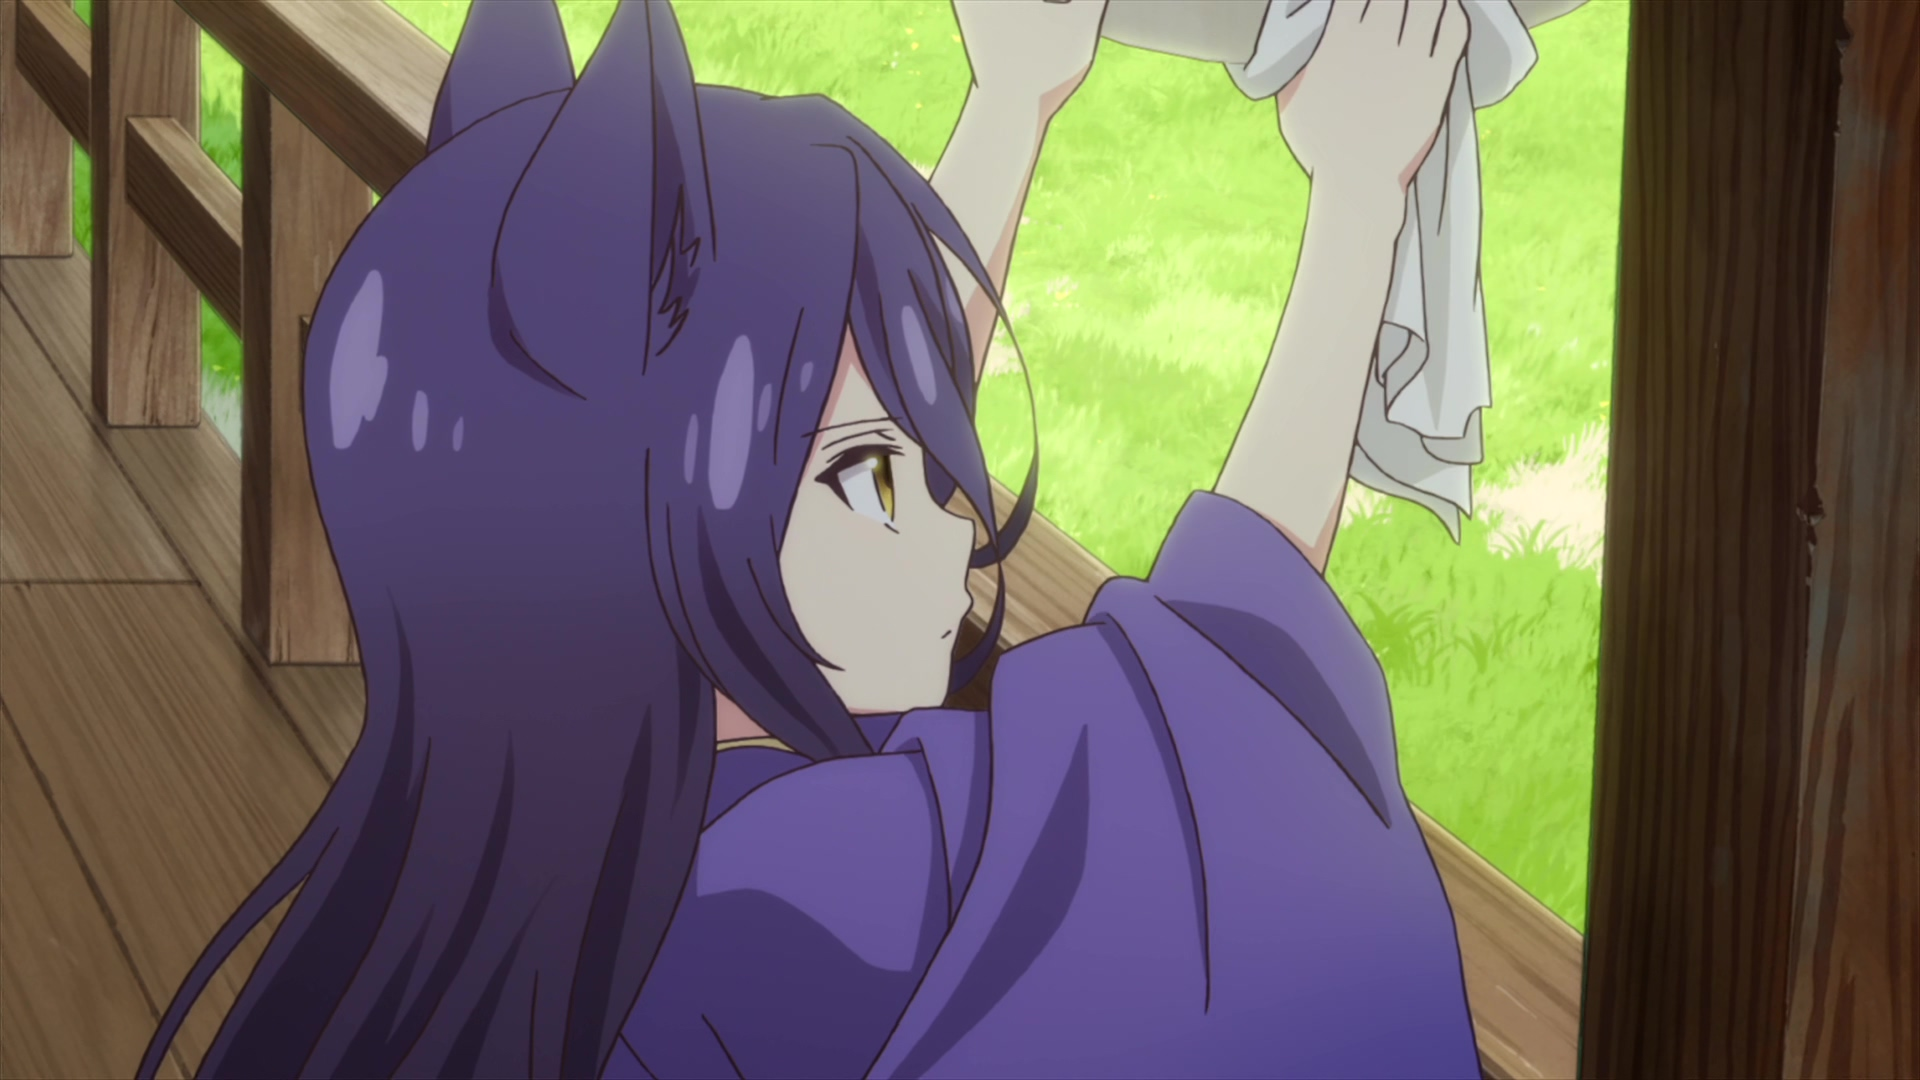皋: (136, 1, 1484, 1080)
